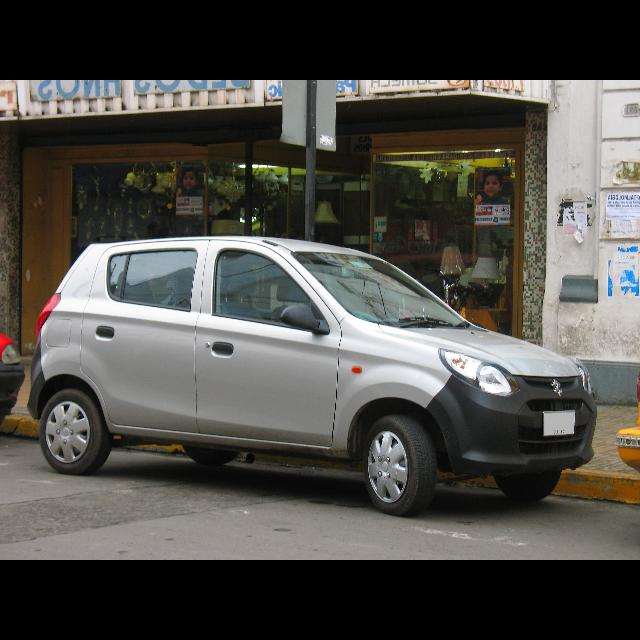number-plate: (543, 410, 577, 436)
vehicles: (31, 240, 598, 509)
